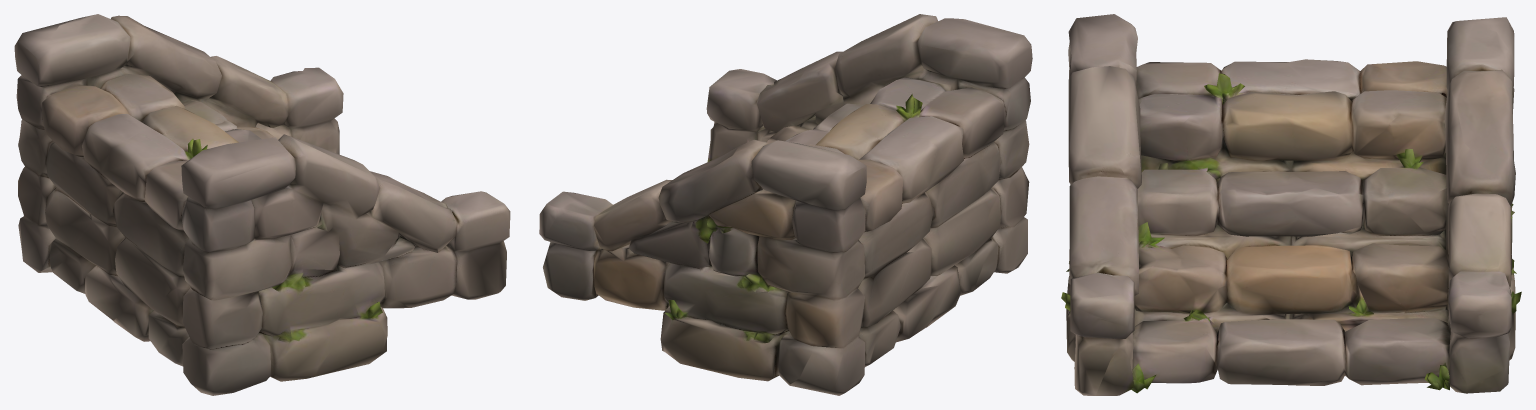
Rendered from stairs_stone_l1.glb.
3 views of the same model, side by side, from view 1: azimuth 30°, elevation 25°; view 2: azimuth 150°, elevation 25°; view 3: azimuth 270°, elevation 25° (orthographic). The views are drawn at different scales.
Visible parts, largest first — view 1: tripo_node_ca8a87b0-69b4-4206-b909-c1a4d31dd16f; view 2: tripo_node_ca8a87b0-69b4-4206-b909-c1a4d31dd16f; view 3: tripo_node_ca8a87b0-69b4-4206-b909-c1a4d31dd16f.
Part boxes in pixels (x1,y1,x2,y2): tripo_node_ca8a87b0-69b4-4206-b909-c1a4d31dd16f: (14,14,510,395); tripo_node_ca8a87b0-69b4-4206-b909-c1a4d31dd16f: (539,14,1032,395); tripo_node_ca8a87b0-69b4-4206-b909-c1a4d31dd16f: (1061,14,1521,395).
Bounding box in the file's own units: 0.8501 × 0.6154 × 0.9826.
1 material, 1 textured.
